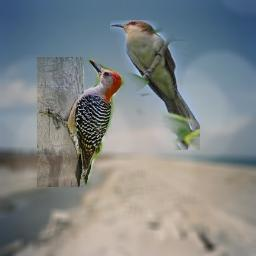Cuckoo: (110, 20, 200, 150)
Woodpecker: (37, 57, 128, 187)
